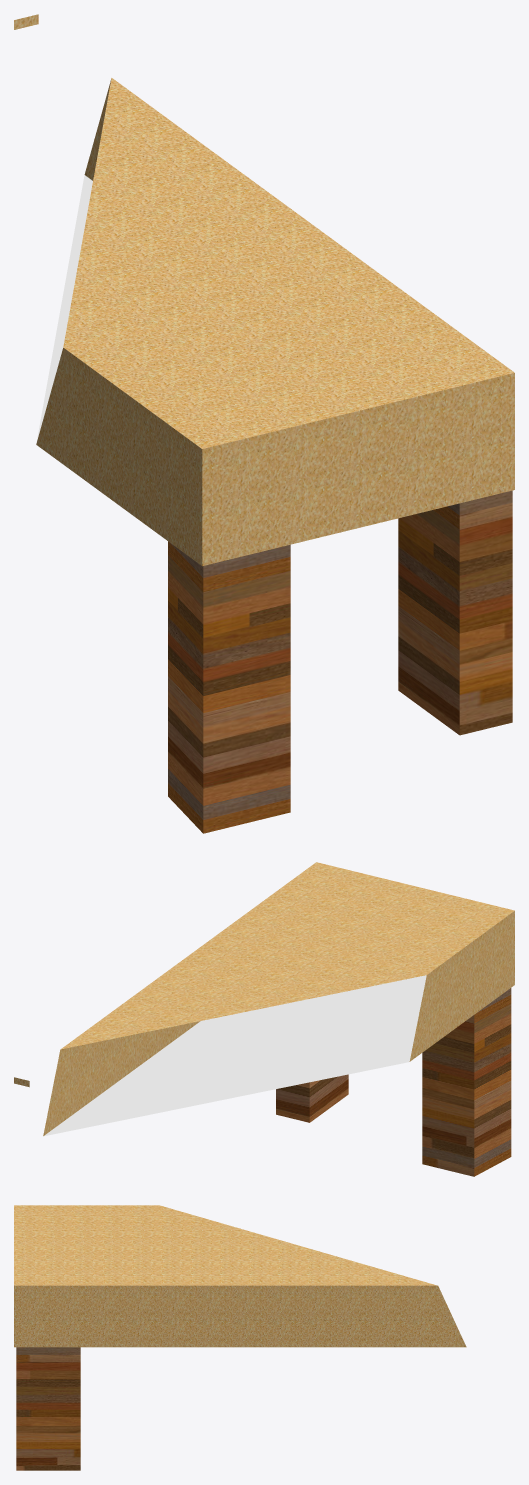
Rendered from chair_half1.fbx.
The picture shows the model from 3 angles, top to bottom: view 1: azimuth 30°, elevation 25°; view 2: azimuth 150°, elevation 25°; view 3: azimuth 270°, elevation 25°; orthographic projection. The views are drawn at different scales.
Parts seen in each view (by area): view 1: polySurface39; view 2: polySurface39; view 3: polySurface39.
Boxes of the visible parts, bbox=[...] form: polySurface39: bbox=[14, 14, 514, 833]; polySurface39: bbox=[14, 862, 514, 1176]; polySurface39: bbox=[14, 1205, 466, 1470].
Size of the model in its own units: 64.93 by 78.74 by 171.
